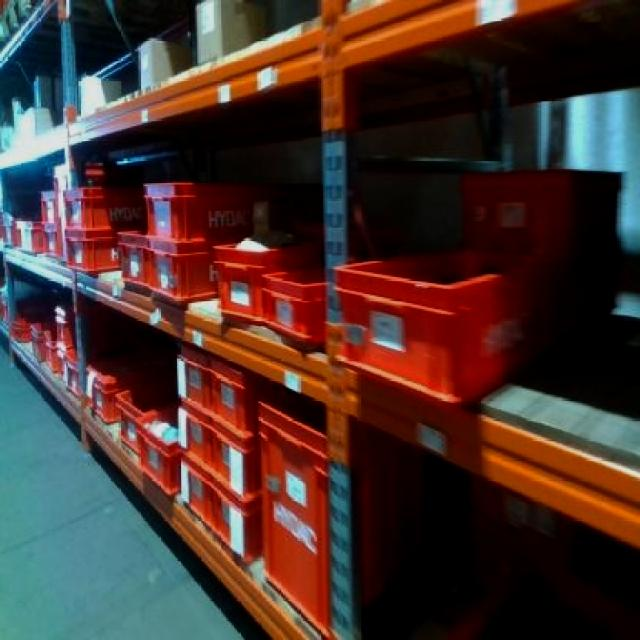pallets: (0, 169, 637, 637), (334, 248, 549, 398), (68, 340, 111, 400), (278, 349, 325, 402), (385, 297, 435, 331), (346, 288, 386, 328), (328, 465, 349, 540)
